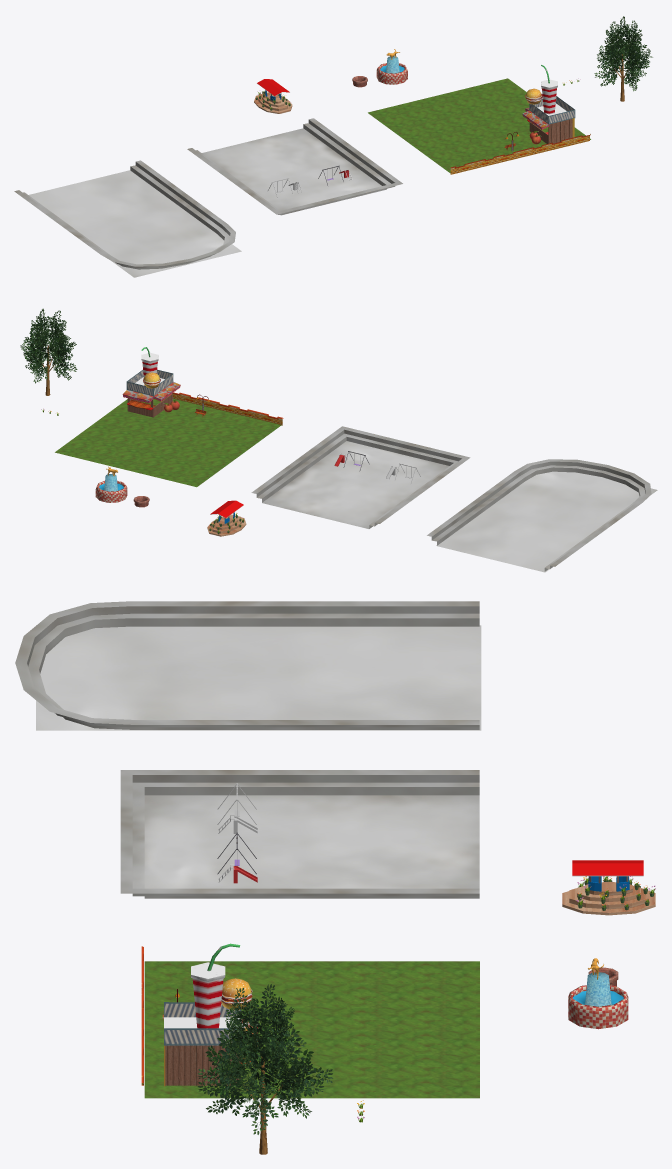
The model's file is extra item.fbx.
The picture shows the model from 3 angles, top to bottom: view 1: azimuth 30°, elevation 25°; view 2: azimuth 150°, elevation 25°; view 3: azimuth 270°, elevation 25°; orthographic projection. The views are drawn at different scales.
Visible parts, largest first — view 1: polySurface9216, pPlane325, pPlane324, polySurface9217, polySurface9132, polySurface9135, polySurface8963, polySurface9238, polySurface8976; view 2: pPlane325, polySurface9216, pPlane324, polySurface9217, polySurface9132, polySurface9135, polySurface9238, polySurface8963, polySurface8976; view 3: pPlane325, polySurface9216, pPlane324, polySurface9217, polySurface9132, polySurface9135, polySurface9238, polySurface8976.
Part boxes in pixels (x1,y1,x2,y2): polySurface9216: (28, 170, 241, 277); pPlane325: (187, 118, 402, 215); pPlane324: (368, 78, 590, 173); polySurface9217: (14, 160, 235, 269); polySurface9132: (594, 16, 652, 101); polySurface9135: (522, 65, 575, 144); polySurface8963: (450, 134, 590, 174); polySurface9238: (254, 79, 292, 113); polySurface8976: (376, 49, 407, 84); pPlane325: (251, 426, 470, 528); polySurface9216: (436, 471, 657, 572); pPlane324: (55, 398, 281, 487); polySurface9217: (427, 459, 651, 571); polySurface9132: (20, 308, 77, 395); polySurface9135: (122, 347, 180, 417); polySurface9238: (207, 500, 246, 536); polySurface8963: (173, 392, 283, 425); polySurface8976: (95, 466, 127, 502); pPlane325: (120, 770, 479, 898); polySurface9216: (36, 625, 481, 730); pPlane324: (144, 961, 479, 1098); polySurface9217: (15, 601, 479, 729); polySurface9132: (197, 984, 333, 1154); polySurface9135: (162, 943, 257, 1086); polySurface9238: (562, 860, 655, 915); polySurface8976: (568, 958, 628, 1029).
Bounding box in the file's own units: 1819 × 253 × 866.
